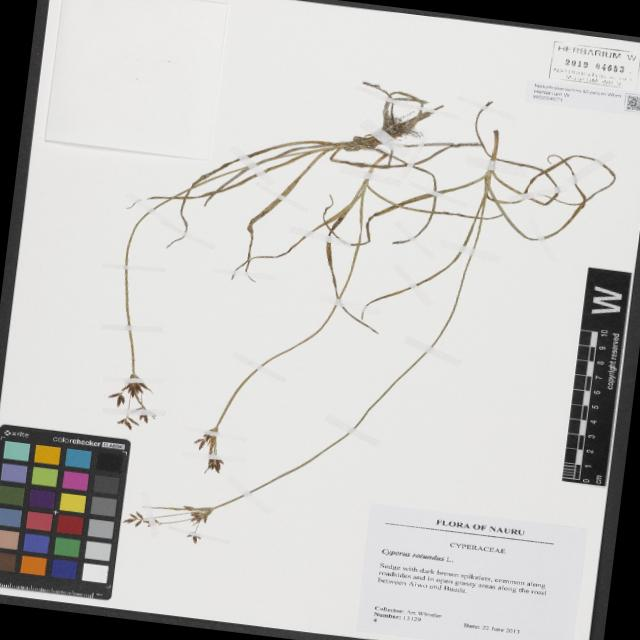cyperus: (120, 492, 224, 550), (97, 369, 169, 436), (182, 422, 236, 474)
